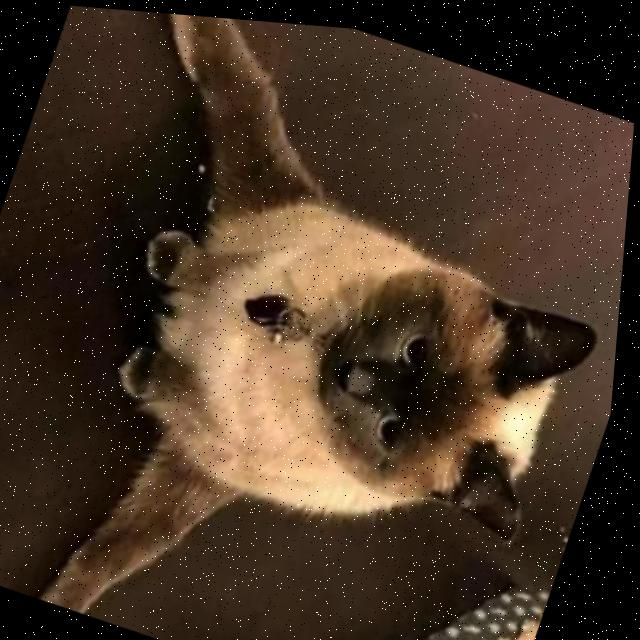Cats: (47, 18, 639, 640)
